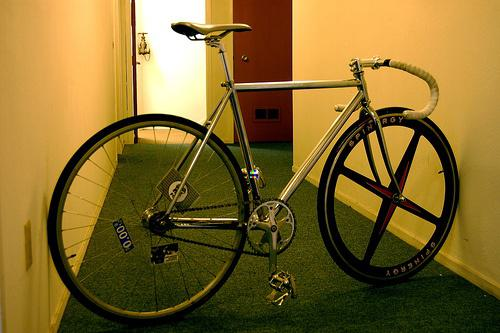car: (47, 22, 461, 327)
